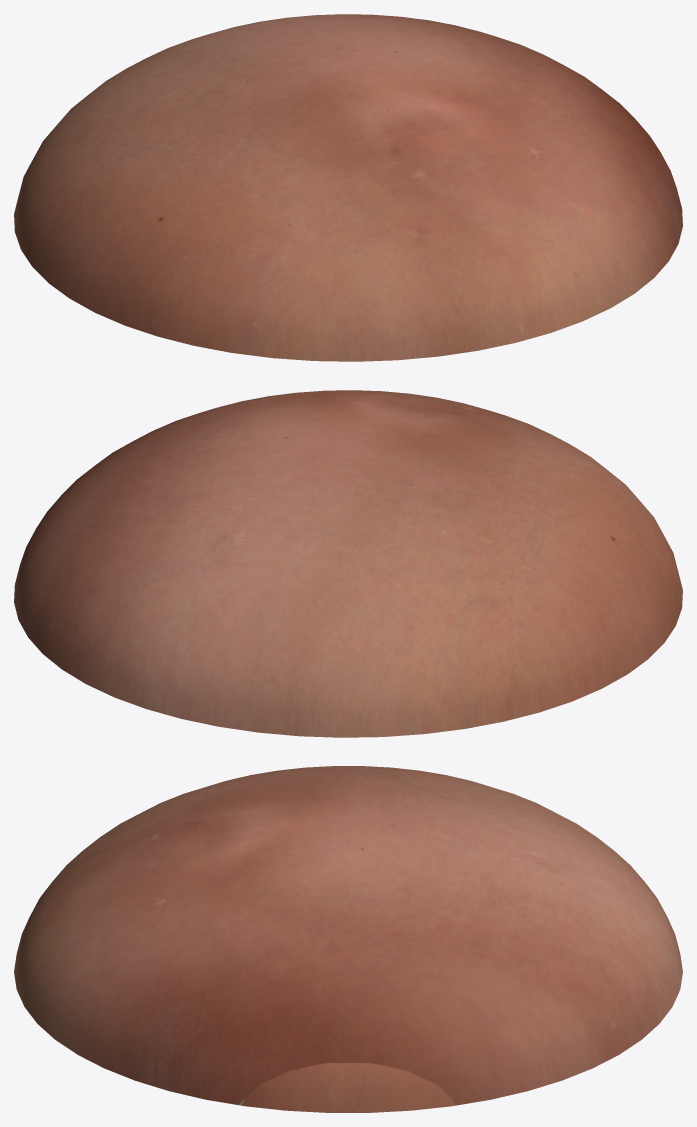
The model's file is CosentyxS3.gltf.
3 views of the same model, one above another, from view 1: azimuth 30°, elevation 25°; view 2: azimuth 150°, elevation 25°; view 3: azimuth 270°, elevation 25° (orthographic).
Parts seen in each view (by area): view 1: Sphere001; view 2: Sphere001; view 3: Sphere001.
Part boxes in pixels (<box>): Sphere001: <box>14,14,682,361</box>; Sphere001: <box>14,390,682,737</box>; Sphere001: <box>14,766,682,1112</box>.
Size of what is drawn, in the model's own units: 2.18 by 0.5526 by 2.18.
Materials: 1 (1 with a texture image).
